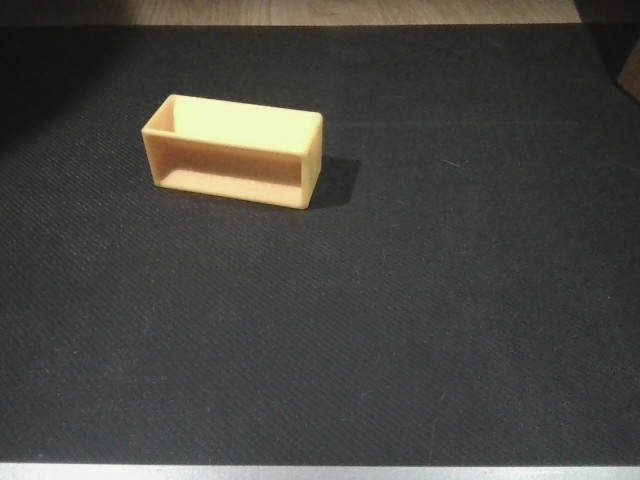YellowSample: (135, 89, 323, 217)
